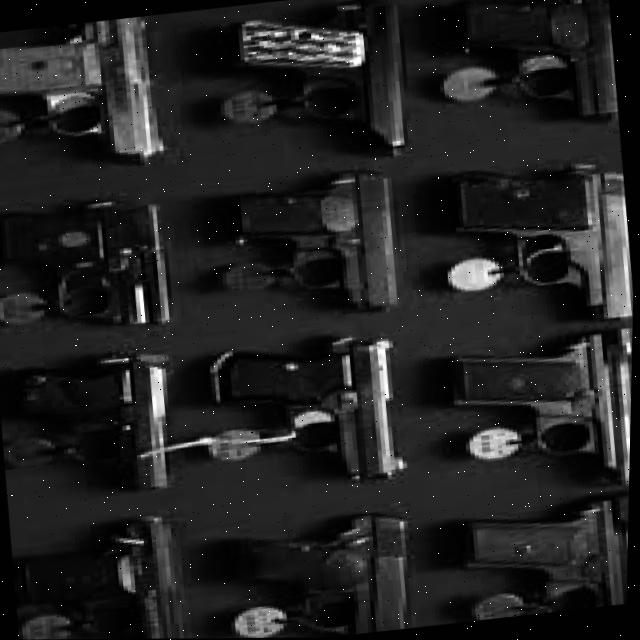pistol: (198, 326, 417, 500), (444, 154, 637, 339), (438, 325, 634, 505), (216, 0, 415, 174), (221, 165, 410, 331), (0, 14, 175, 187), (0, 345, 185, 507), (0, 192, 185, 348), (231, 508, 428, 639), (9, 510, 197, 640), (448, 0, 621, 138), (454, 489, 631, 622)
